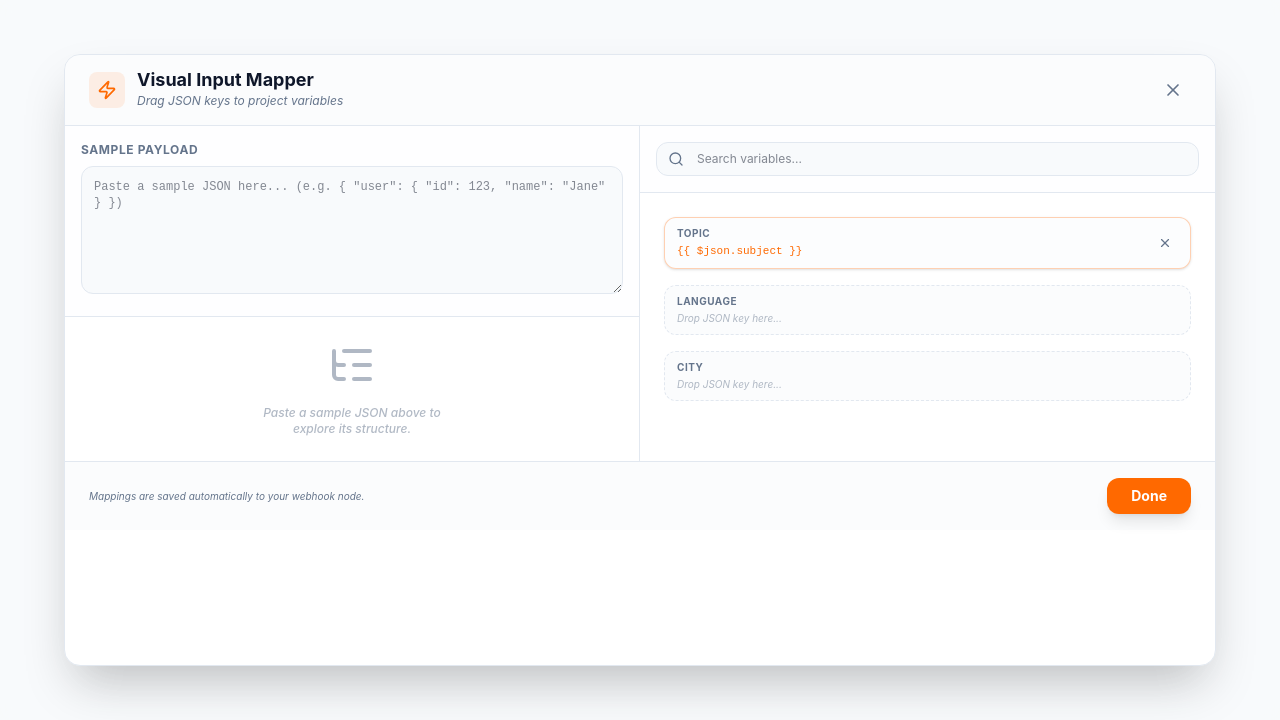
Scenario: WebhookMapperModal › filters project variables by search query
Expected: the text "topic" is shown, [677,227,710,239]
Expected: the text "language" is shown, [677,294,737,306]
Type "cit" into the field with placeholder "Search variables..." at (928, 159), box [656,142,1199,176]
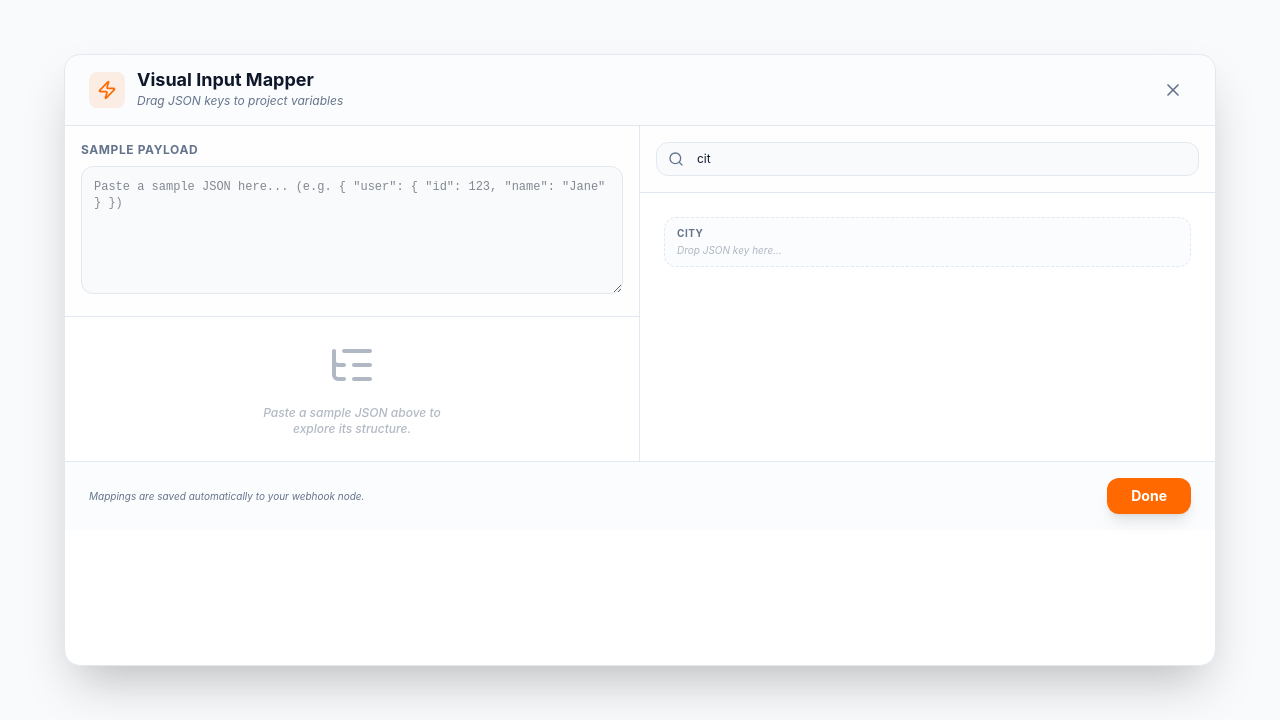
Expected: the text "city" is shown, [677,227,703,239]
Result: the text "topic" is gone
